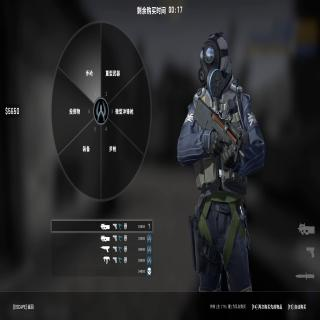CT-Body: (178, 30, 264, 287)
CT-Head: (198, 32, 228, 81)
